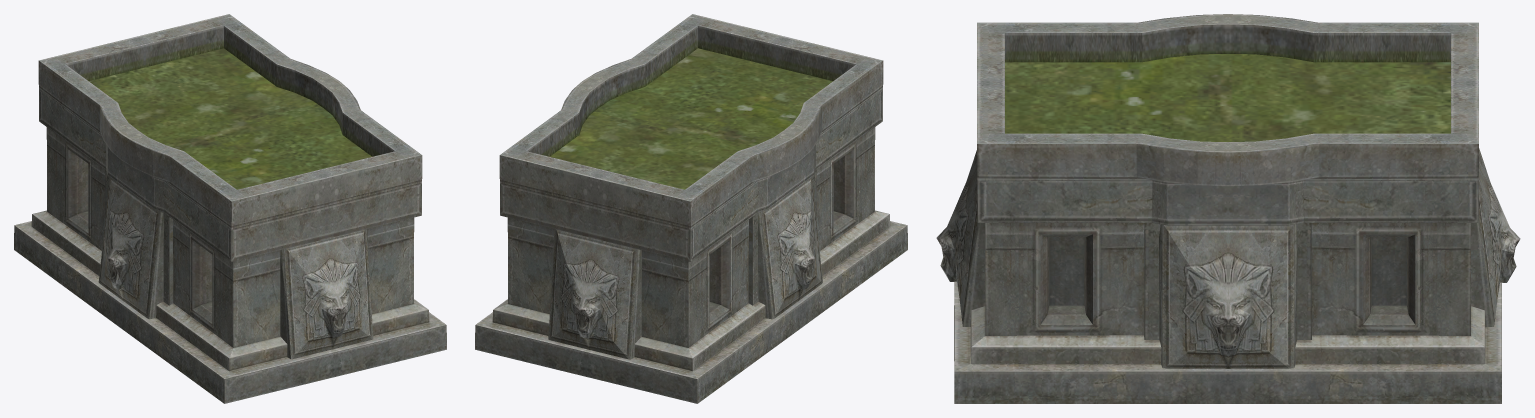
The model's file is bg_lut_lucastle_flowergarden02_sm_artree.FBX.
3 renders of one model, left to right at view 1: azimuth 30°, elevation 25°; view 2: azimuth 150°, elevation 25°; view 3: azimuth 270°, elevation 25°, orthographic. The views are drawn at different scales.
Visible parts, largest first — view 1: bg_lut_lucastle_flowergarden02_sm_artree; view 2: bg_lut_lucastle_flowergarden02_sm_artree; view 3: bg_lut_lucastle_flowergarden02_sm_artree.
Boxes of the visible parts, left/top/right/bottom form: bg_lut_lucastle_flowergarden02_sm_artree: left=14, top=14, right=446, bottom=403; bg_lut_lucastle_flowergarden02_sm_artree: left=475, top=14, right=907, bottom=403; bg_lut_lucastle_flowergarden02_sm_artree: left=936, top=14, right=1520, bottom=403.
Bounding box in the file's own units: 104 × 77.78 × 165.
